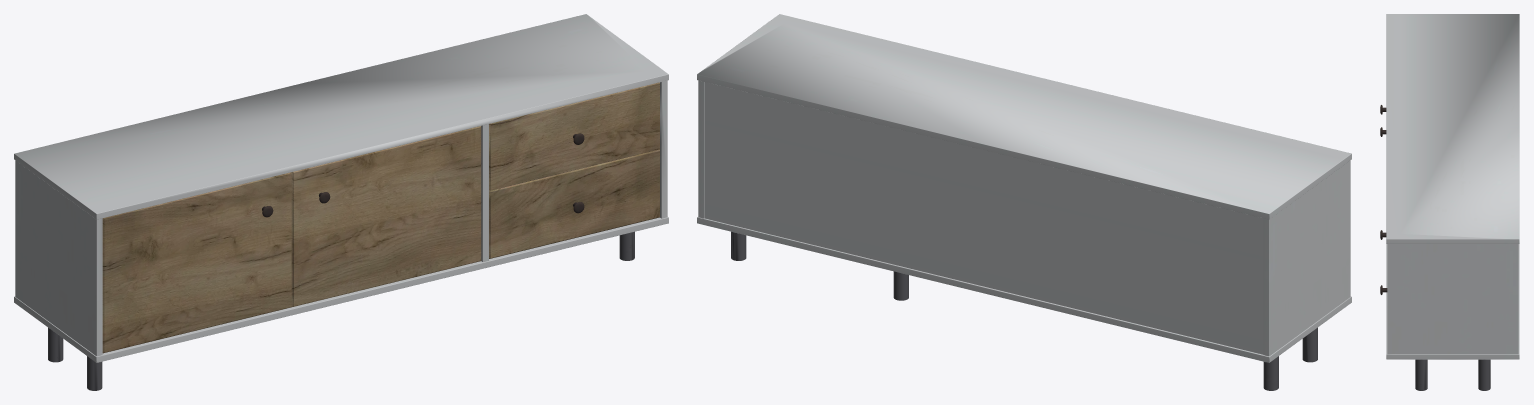
Rendered from tv_stand_abo_B07GFFPKBG.glb.
3 renders of one model, left to right at view 1: azimuth 30°, elevation 25°; view 2: azimuth 150°, elevation 25°; view 3: azimuth 270°, elevation 25°, orthographic. The views are drawn at different scales.
Visible parts, largest first — view 1: RootNode; view 2: RootNode; view 3: RootNode.
Part boxes in pixels (box(x1,y1,x2,y2)): RootNode: box(14, 14, 668, 390); RootNode: box(697, 14, 1351, 390); RootNode: box(1380, 14, 1519, 390).
Bounding box in the file's own units: 1.6 × 0.52 × 0.418.
Materials: 1 (1 with a texture image).
